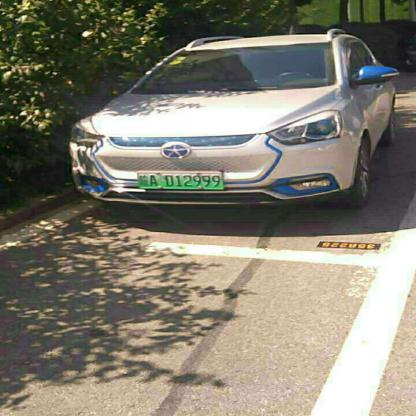lp: (136, 171, 224, 190)
